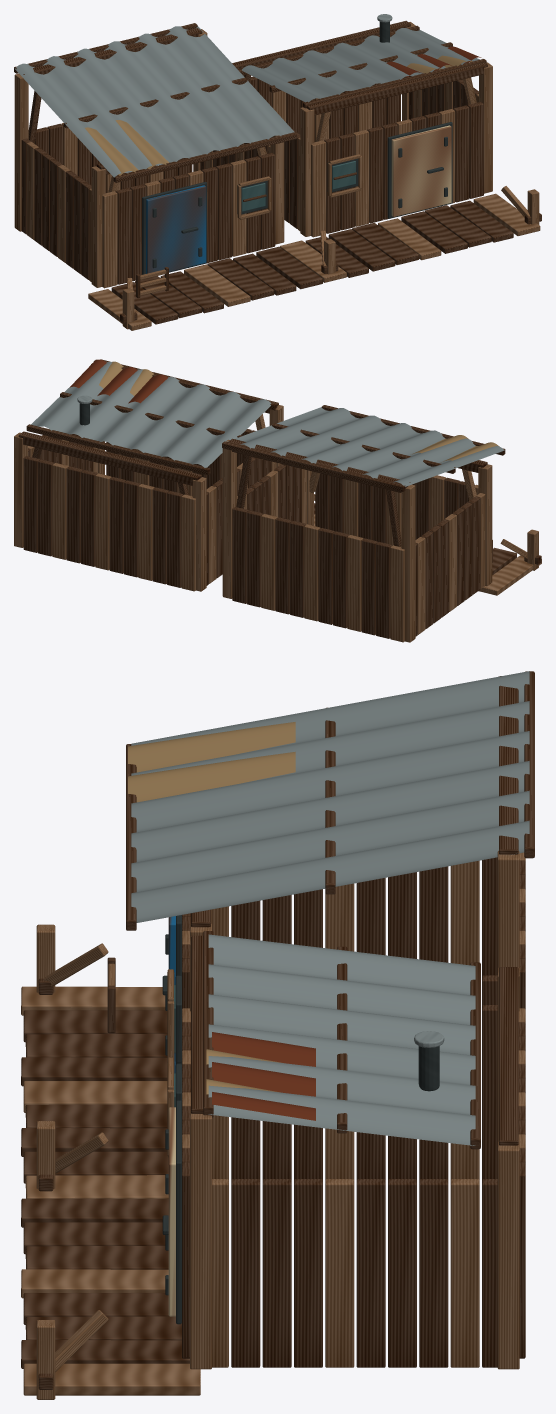
The model's file is scavenger_housing.glb.
The picture shows the model from 3 angles, top to bottom: view 1: azimuth 30°, elevation 25°; view 2: azimuth 150°, elevation 25°; view 3: azimuth 270°, elevation 25°; orthographic projection. The views are drawn at different scales.
Visible parts, largest first — view 1: Cottage front reclaimed vertical board; view 2: Cottage front reclaimed vertical board; view 3: Cottage front reclaimed vertical board.
Boxes of the visible parts, x1=… form: Cottage front reclaimed vertical board: x1=14, y1=14, x2=541, y2=330; Cottage front reclaimed vertical board: x1=14, y1=359, x2=541, y2=642; Cottage front reclaimed vertical board: x1=21, y1=671, x2=534, y2=1399.
Bounding box in the file's own units: 16.66 × 6.51 × 8.85.
Materials: 9 (9 with a texture image).
